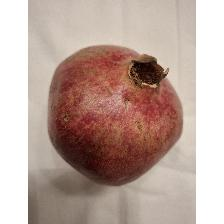Granatapfel: (46, 43, 184, 189)
